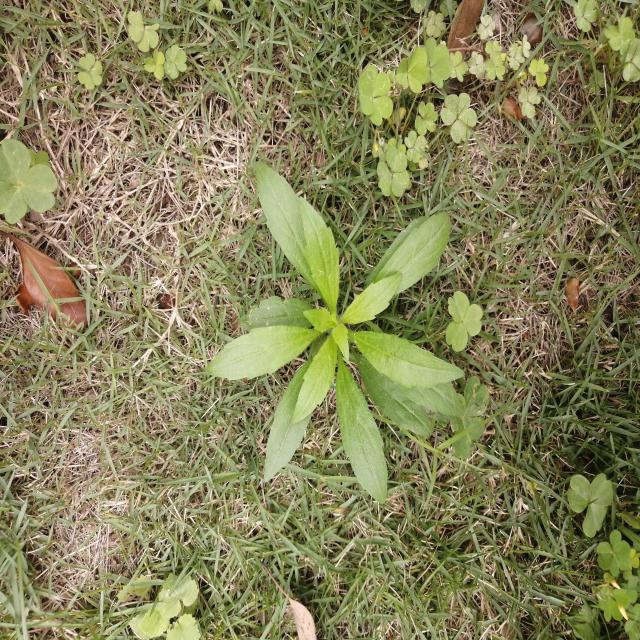horseweed: (220, 179, 455, 489)
